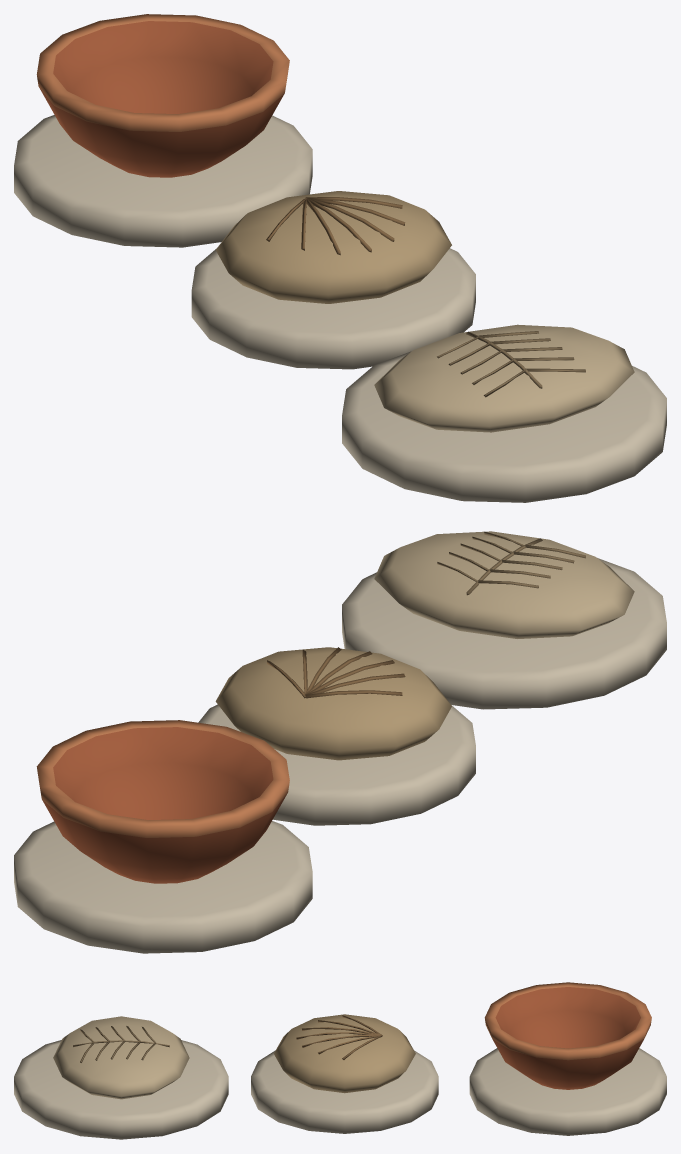
The model's file is case_exhibits_1.glb.
3 renders of one model, top to bottom at view 1: azimuth 30°, elevation 25°; view 2: azimuth 150°, elevation 25°; view 3: azimuth 270°, elevation 25°, orthographic. The views are drawn at different scales.
Visible parts, largest first — view 1: Body; view 2: Body; view 3: Body.
Part boxes in pixels (left/top/right/bottom): Body: left=14, top=14, right=666, bottom=502; Body: left=14, top=531, right=666, bottom=953; Body: left=14, top=982, right=666, bottom=1139.
Bounding box in the file's own units: 0.5286 × 0.214 × 1.61.
